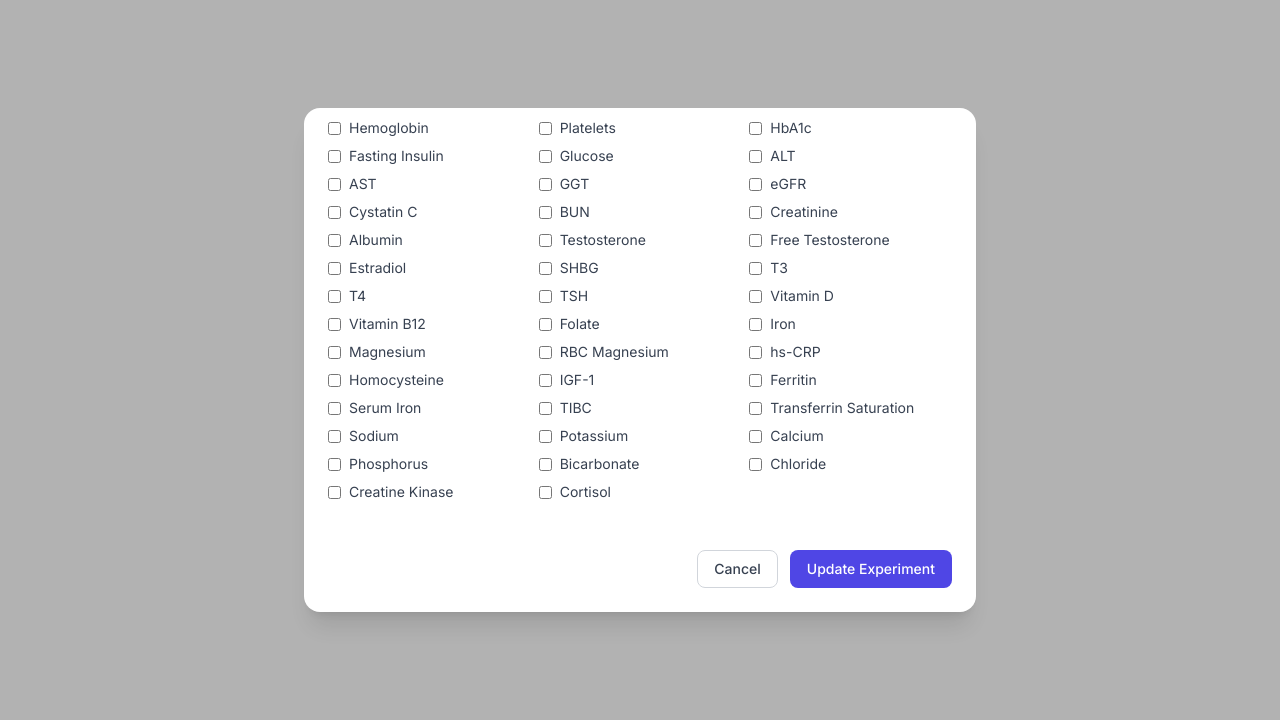
Test: EditExperimentModal › handles experiment with no markers
This screenshot has width=1280, height=720.
(page scrolled)
Try to submit
Click the button "Update Experiment": (871, 569) [790,550,952,588]
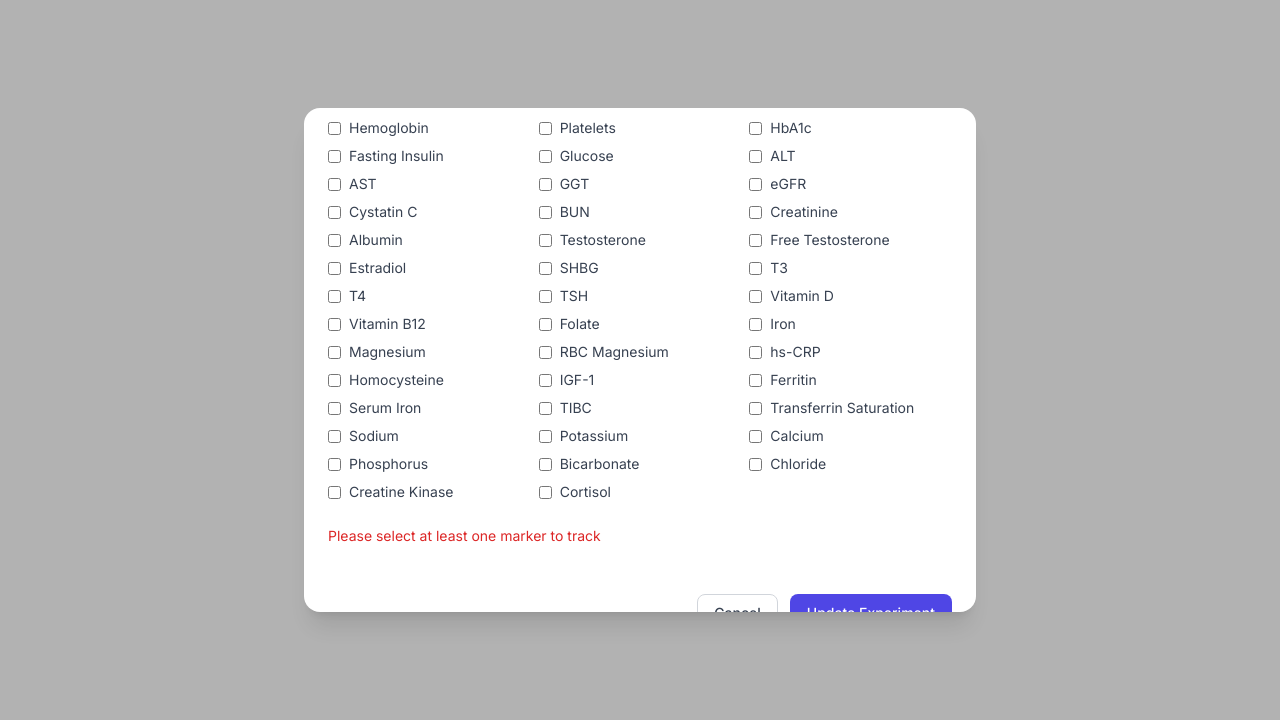
Expected: the text "Please select at least one marker to track" is shown, [328,527,601,544]
